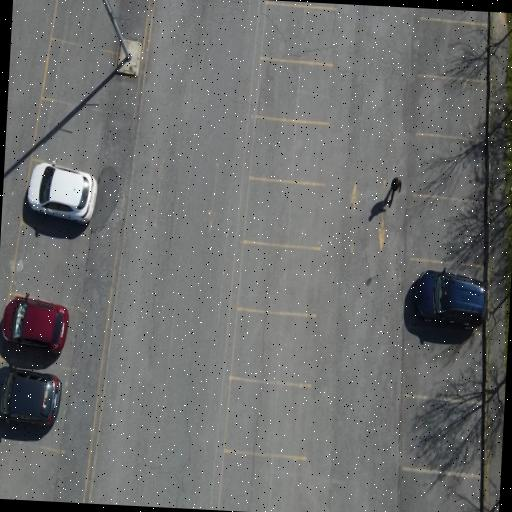car: (27, 161, 96, 223), (415, 269, 484, 328), (1, 295, 68, 353), (0, 367, 60, 424)
person: (388, 177, 400, 208)
